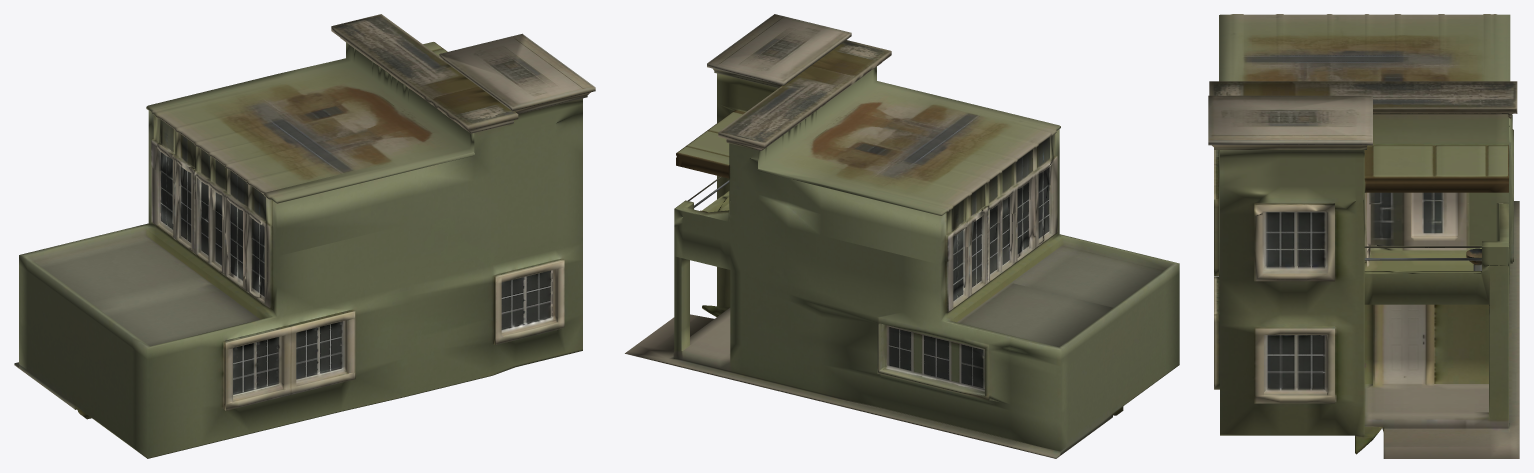
File: tripo_convert_c8c3cb5c-e20a-4f6d-9d03-2ebd4269db43.fbx
3 renders of one model, left to right at view 1: azimuth 30°, elevation 25°; view 2: azimuth 150°, elevation 25°; view 3: azimuth 270°, elevation 25°, orthographic. The views are drawn at different scales.
Parts seen in each view (by area): view 1: tripo_node_c8c3cb5c; view 2: tripo_node_c8c3cb5c; view 3: tripo_node_c8c3cb5c.
Part boxes in pixels (x1,y1,x2,y2): tripo_node_c8c3cb5c: [14, 14, 595, 458]; tripo_node_c8c3cb5c: [625, 14, 1179, 458]; tripo_node_c8c3cb5c: [1208, 14, 1519, 458].
Bounding box in the file's own units: 1 × 0.5597 × 0.5146.
